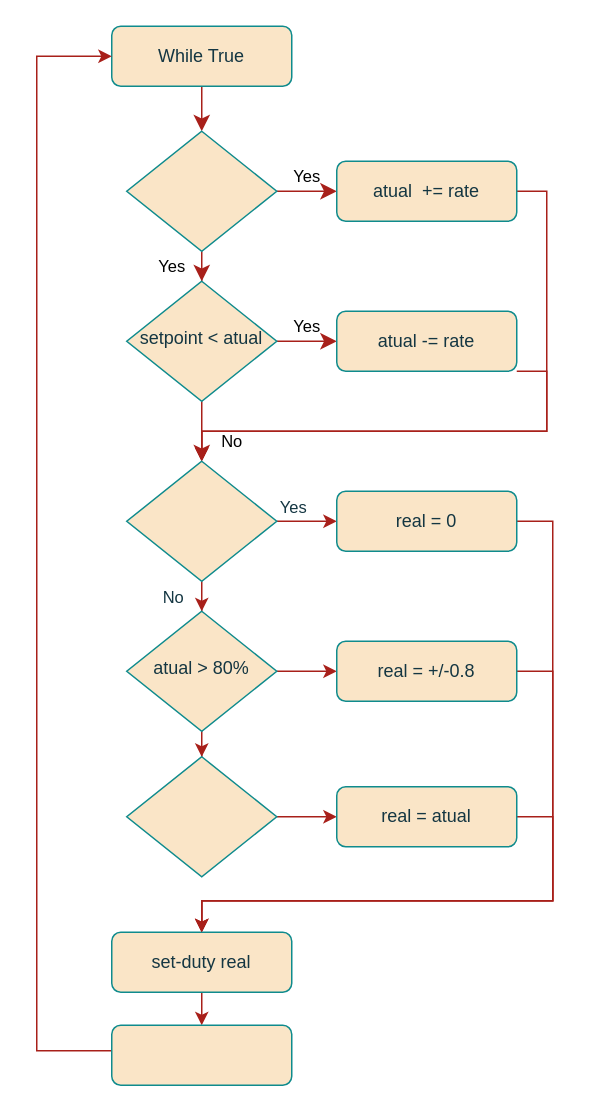
Image size: 591x1112. Some labels were removed from this diagram. The centre of each missing label's shape, as x and y in pixels:
"atual < 10%" goes at point (201, 520).
"atual > 10% atual < 80%" goes at point (201, 816).
"delay 10ms" goes at point (201, 1054).
"setpoint > atual" goes at point (201, 190).
